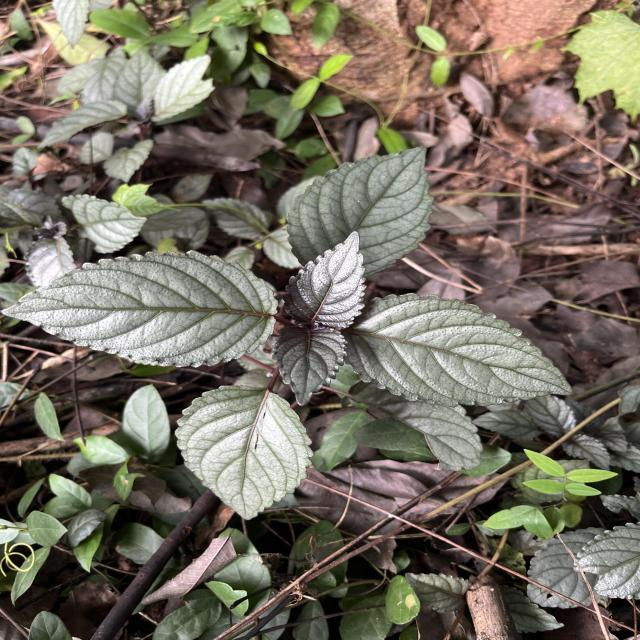Hemigraphis colorata: (0, 248, 281, 370), (343, 288, 579, 409), (284, 142, 438, 282), (172, 382, 318, 524), (278, 228, 371, 332), (268, 322, 352, 409)
